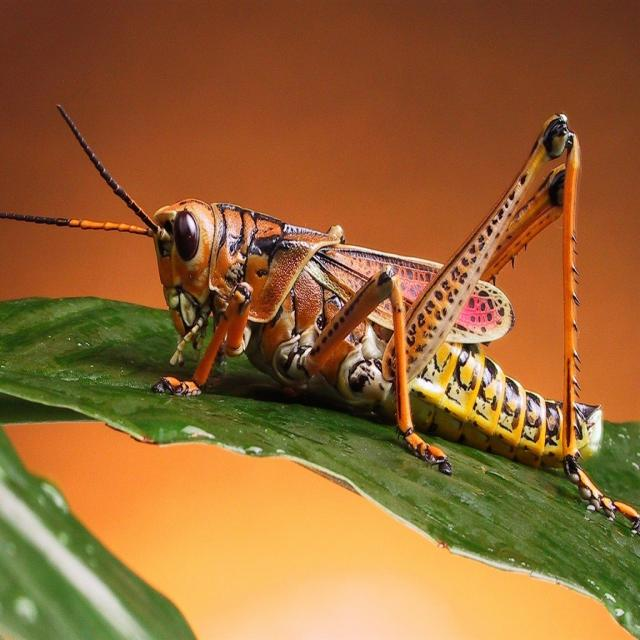ZhaMeng: (54, 106, 619, 495)
